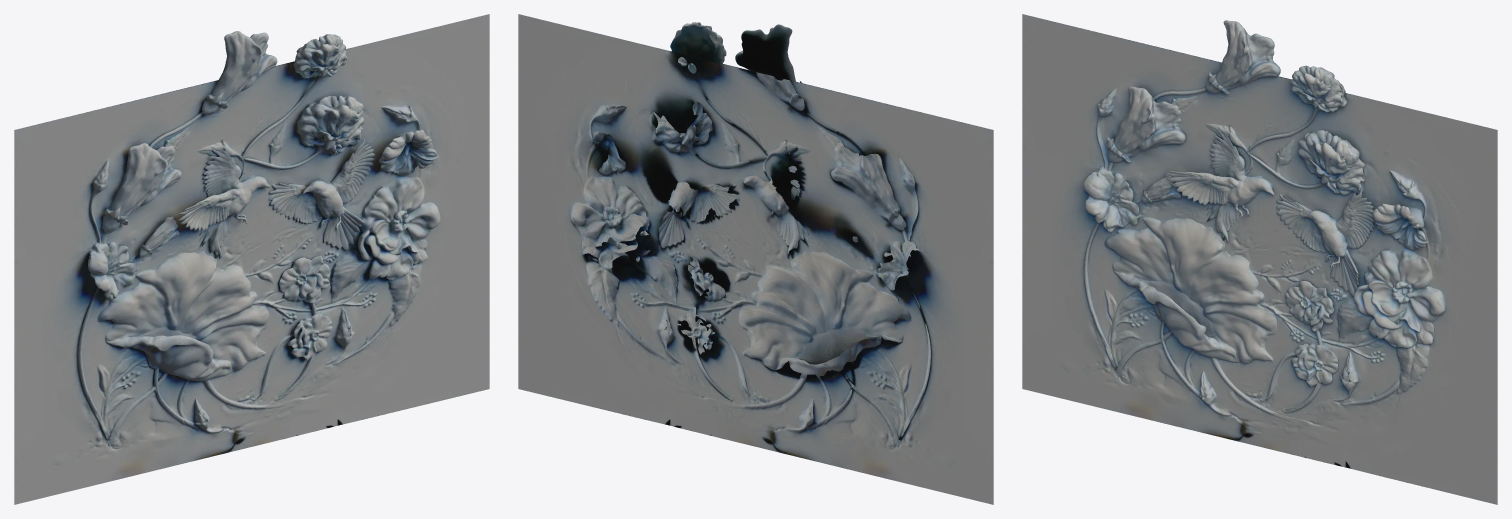
File: bird.glb
3 renders of one model, left to right at view 1: azimuth 30°, elevation 25°; view 2: azimuth 150°, elevation 25°; view 3: azimuth 330°, elevation 25°, orthographic.
Visible parts, largest first — view 1: bird_01; view 2: bird_01; view 3: bird_01.
Boxes of the visible parts, box(x1,y1,x2,y2) form: bird_01: box(14, 14, 489, 504); bird_01: box(518, 14, 993, 504); bird_01: box(1022, 14, 1497, 504).
Bounding box in the file's own units: 13.25 × 11.29 × 0.782.
Materials: 1 (1 with a texture image).
